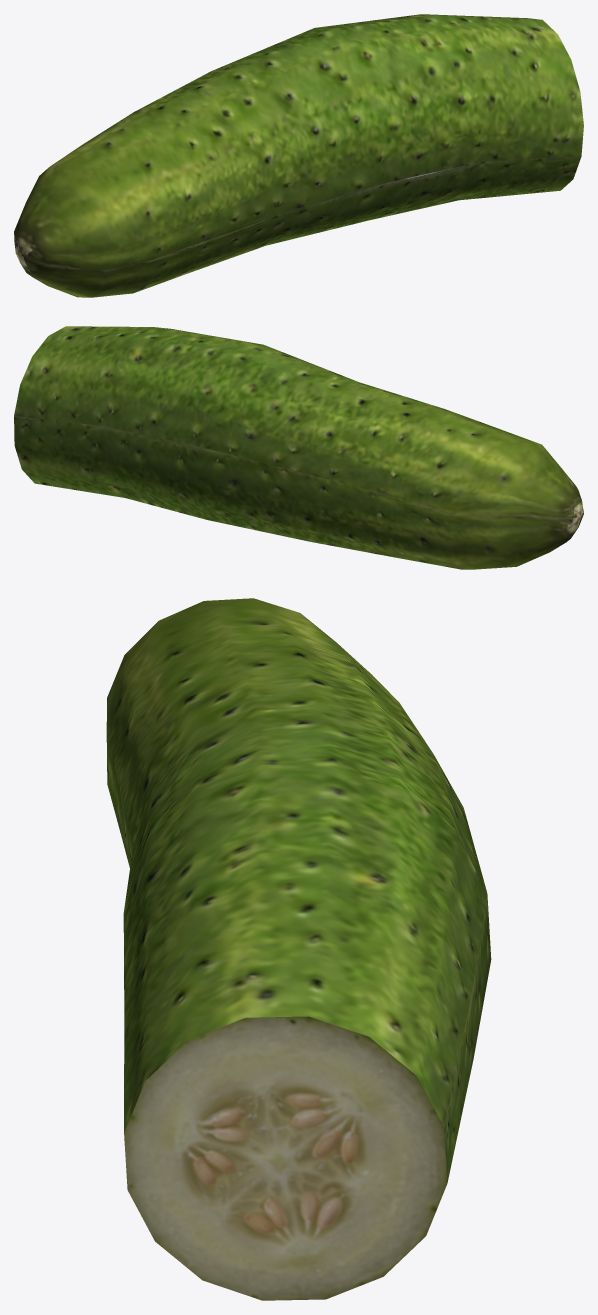
Rendered from cucumber_2.fbx.
The picture shows the model from 3 angles, top to bottom: view 1: azimuth 30°, elevation 25°; view 2: azimuth 150°, elevation 25°; view 3: azimuth 270°, elevation 25°; orthographic projection. The views are drawn at different scales.
Parts seen in each view (by area): view 1: Cylinder.002; view 2: Cylinder.002; view 3: Cylinder.002.
Part boxes in pixels (box(x1,y1,x2,y2)): Cylinder.002: box(14, 14, 583, 297); Cylinder.002: box(14, 326, 583, 569); Cylinder.002: box(106, 598, 491, 1300).
Size of the model in its own units: 37.15 by 12.43 by 12.12.
